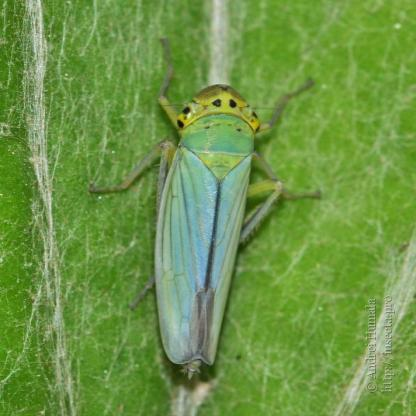Green-Leafhopper: (92, 25, 348, 390)
